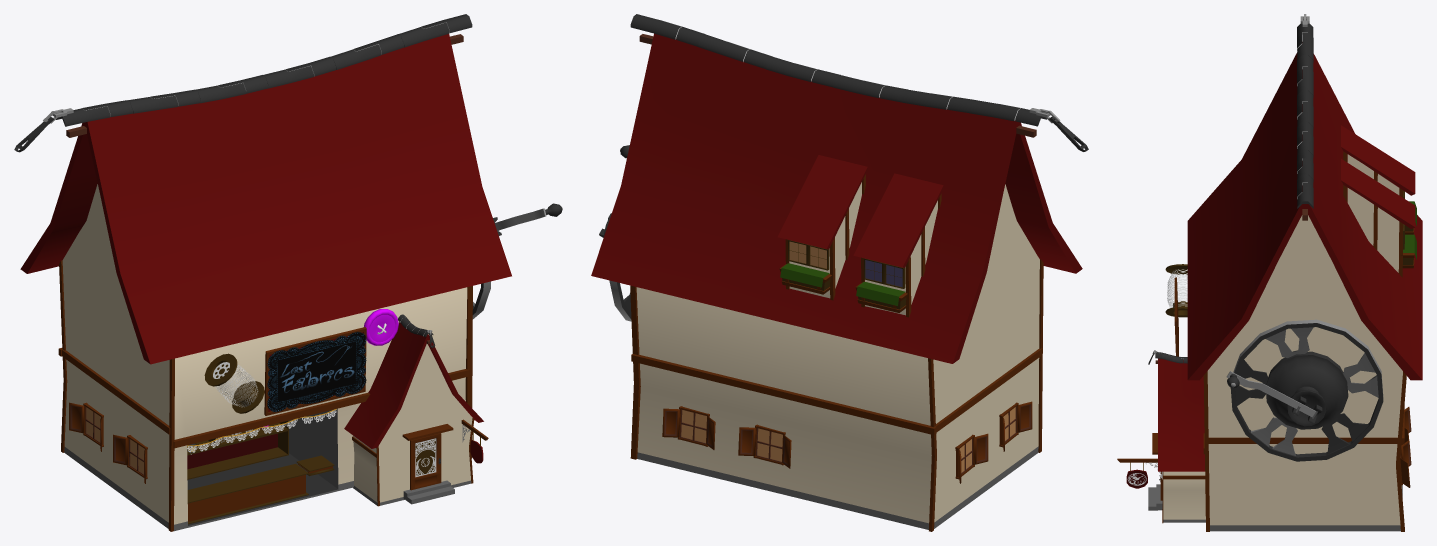
The model's file is Shop.fbx.
3 views of the same model, side by side, from view 1: azimuth 30°, elevation 25°; view 2: azimuth 150°, elevation 25°; view 3: azimuth 270°, elevation 25° (orthographic). The views are drawn at different scales.
Visible parts, largest first — view 1: Cube.254, Cube.252, Cube.255, Cube.311, Plane.015, Cube.258, Cube.264, Cube.266, Cylinder.006, Cube.286, PortaPresset.012, JanelasPequenas.025 (+10 smaller); view 2: Cube.254, Cube.252, Cube.311, Cube.260, Cube.262, Cube.306, JanelasPequenas.019, JanelasPequenas.017, Cube.279, Cube.259, Cube.282, Cube.287 (+9 smaller); view 3: Cube.252, Cube.254, Cylinder.005, Cube.258, Cube.311, Cube.255, Cube.260, Cube.262, Cube.259, Cylinder.006, Cube.305, Cube.279 (+4 smaller).
Part boxes in pixels (left/top/right/bottom): Cube.254: left=20, top=34, right=511, bottom=364; Cube.252: left=62, top=184, right=467, bottom=531; Cube.255: left=353, top=344, right=472, bottom=505; Cube.311: left=14, top=14, right=472, bottom=152; Plane.015: left=267, top=331, right=366, bottom=412; Cube.258: left=344, top=322, right=483, bottom=448; Cube.264: left=187, top=463, right=308, bottom=524; Cube.266: left=187, top=420, right=288, bottom=479; Cylinder.006: left=204, top=353, right=264, bottom=413; Cube.286: left=173, top=369, right=469, bottom=448; PortaPresset.012: left=410, top=433, right=441, bottom=490; JanelasPequenas.025: left=113, top=434, right=147, bottom=483; Cube.254: left=591, top=33, right=1082, bottom=363; Cube.252: left=636, top=184, right=1039, bottom=529; Cube.311: left=630, top=14, right=1088, bottom=151; Cube.260: left=777, top=155, right=867, bottom=249; Cube.262: left=853, top=173, right=943, bottom=267; Cube.306: left=631, top=354, right=936, bottom=435; JanelasPequenas.019: left=738, top=424, right=791, bottom=468; JanelasPequenas.017: left=662, top=406, right=715, bottom=449; Cube.279: left=630, top=285, right=640, bottom=459; Cube.259: left=789, top=182, right=861, bottom=298; Cube.282: left=855, top=281, right=907, bottom=312; Cube.287: left=779, top=263, right=831, bottom=294; Cube.252: left=1207, top=215, right=1402, bottom=531; Cube.254: left=1187, top=42, right=1422, bottom=380; Cylinder.005: left=1226, top=319, right=1383, bottom=461; Cube.258: left=1158, top=358, right=1204, bottom=471; Cube.311: left=1297, top=14, right=1313, bottom=208; Cube.255: left=1163, top=471, right=1205, bottom=522; Cube.260: left=1341, top=159, right=1415, bottom=228; Cube.262: left=1341, top=125, right=1415, bottom=195; Cube.259: left=1347, top=188, right=1399, bottom=272; Cylinder.006: left=1165, top=264, right=1187, bottom=317; Cube.305: left=1208, top=437, right=1397, bottom=443; Cube.279: left=1396, top=371, right=1406, bottom=531.
Size of the model in its own units: 2668 by 2001 by 1543.
